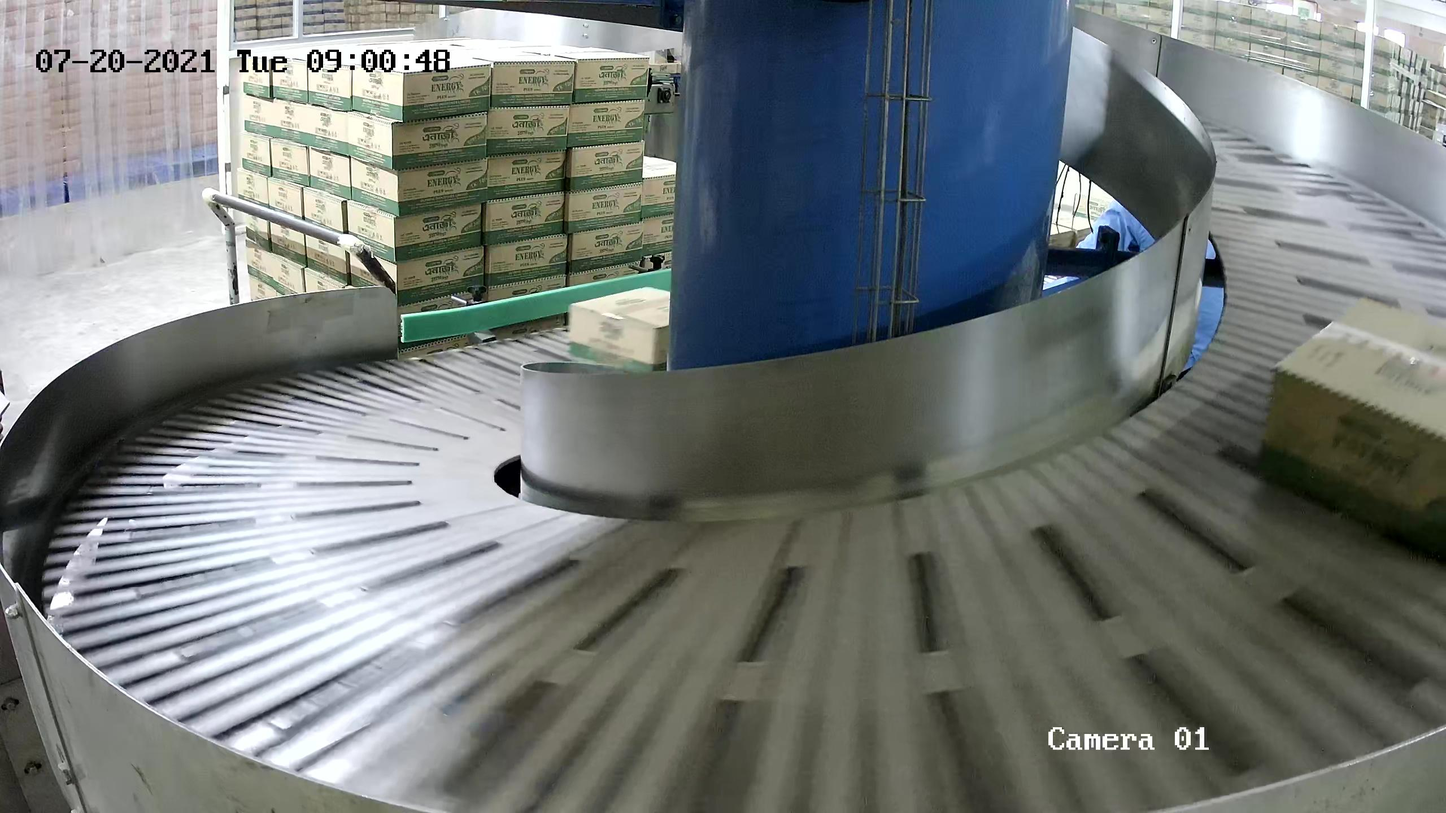Box: (1254, 293, 1446, 564), (568, 284, 670, 374)
